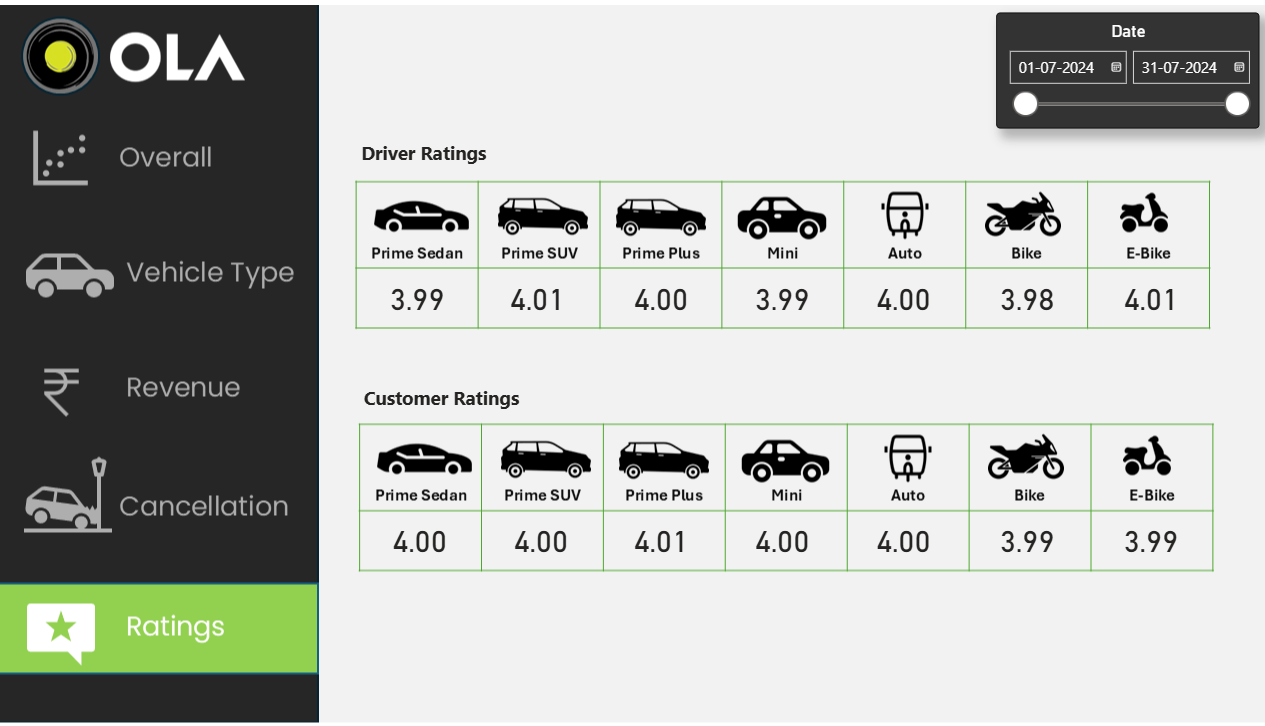

Layout of this report page (visuals, bound fields, positions):
{"tool":"powerbi","page":{"name":"Ratings","canvas":[1280,720],"ordinal":4},"visuals":[{"type":"card","fields":{"Values":["Avg(July.Driver_Ratings)"]},"box":[362.9,267.1,115.7,44.3],"z":0},{"type":"card","fields":{"Values":["Avg(July.Driver_Ratings)"]},"box":[851.2,267.6,116.1,43.5],"z":1},{"type":"card","fields":{"Values":["Avg(July.Driver_Ratings)"]},"box":[972.1,267.6,116.1,43.5],"z":2},{"type":"card","fields":{"Values":["Avg(July.Driver_Ratings)"]},"box":[1094.6,267.6,116.1,43.5],"z":3},{"type":"card","fields":{"Values":["Avg(July.Driver_Ratings)"]},"box":[512.6,307.9,9.7,43.5],"z":4},{"type":"card","fields":{"Values":["Avg(July.Driver_Ratings)"]},"box":[486.9,269.2,116.1,43.5],"z":5},{"type":"card","fields":{"Values":["Avg(July.Driver_Ratings)"]},"box":[607.8,267.6,116.1,43.5],"z":6},{"type":"card","fields":{"Values":["Avg(July.Driver_Ratings)"]},"box":[727.1,267.6,116.1,43.5],"z":7},{"type":"card","fields":{"Values":["Avg(July.Customer_Rating)"]},"box":[364.3,512.6,116.1,43.5],"z":8},{"type":"textbox","box":[352.9,122.9,191.4,50],"z":9},{"type":"textbox","box":[362.9,370,191.4,50],"z":10},{"type":"card","fields":{"Values":["Avg(July.Customer_Rating)"]},"box":[487.1,512.9,115.7,42.9],"z":11},{"type":"card","fields":{"Values":["Avg(July.Customer_Rating)"]},"box":[611.4,512.9,115.7,42.9],"z":12},{"type":"card","fields":{"Values":["Avg(July.Customer_Rating)"]},"box":[735.7,512.9,115.7,42.9],"z":13},{"type":"card","fields":{"Values":["Avg(July.Customer_Rating)"]},"box":[855.7,512.9,115.7,42.9],"z":14},{"type":"card","fields":{"Values":["Avg(July.Customer_Rating)"]},"box":[978.6,512.9,115.7,42.9],"z":15},{"type":"card","fields":{"Values":["Avg(July.Customer_Rating)"]},"box":[1095.7,512.9,115.7,42.9],"z":16},{"type":"slicer","title":"Date","fields":{"Values":["July.Date"]},"box":[978.6,0,291.4,128.6],"z":17},{"type":"actionButton","box":[0,101.4,327.1,107.1],"z":18},{"type":"actionButton","box":[0,222.9,327.1,107.1],"z":19},{"type":"actionButton","box":[0,330,327.1,107.1],"z":20},{"type":"actionButton","box":[0,437.1,327.1,107.1],"z":21}]}

Visuals, with their boxes on the page's 1280x720 design canvas (x1, y1, x2, y2). These are canvas units, not pixel positions in the 1265x726 screenshot, which may show the page scaled, cropped or inside an application window:
card - Avg(July.Driver_Ratings): 363,267,479,311
card - Avg(July.Driver_Ratings): 851,268,967,311
card - Avg(July.Driver_Ratings): 972,268,1088,311
card - Avg(July.Driver_Ratings): 1095,268,1211,311
card - Avg(July.Driver_Ratings): 513,308,522,351
card - Avg(July.Driver_Ratings): 487,269,603,313
card - Avg(July.Driver_Ratings): 608,268,724,311
card - Avg(July.Driver_Ratings): 727,268,843,311
card - Avg(July.Customer_Rating): 364,513,480,556
textbox: 353,123,544,173
textbox: 363,370,554,420
card - Avg(July.Customer_Rating): 487,513,603,556
card - Avg(July.Customer_Rating): 611,513,727,556
card - Avg(July.Customer_Rating): 736,513,851,556
card - Avg(July.Customer_Rating): 856,513,971,556
card - Avg(July.Customer_Rating): 979,513,1094,556
card - Avg(July.Customer_Rating): 1096,513,1211,556
"Date" slicer: 979,0,1270,129
actionButton: 0,101,327,208
actionButton: 0,223,327,330
actionButton: 0,330,327,437
actionButton: 0,437,327,544
